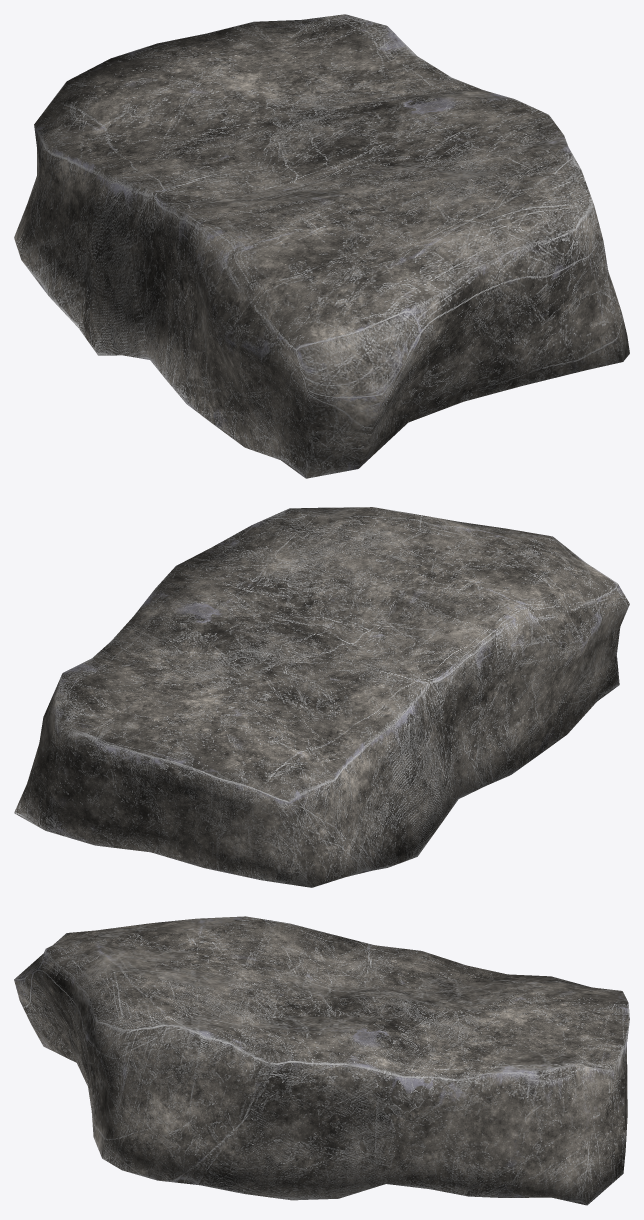
Rendered from SM_Rock01d.fbx.
3 views of the same model, one above another, from view 1: azimuth 30°, elevation 25°; view 2: azimuth 150°, elevation 25°; view 3: azimuth 270°, elevation 25° (orthographic). The views are drawn at different scales.
Parts seen in each view (by area): view 1: SM_Rock01d; view 2: SM_Rock01d; view 3: SM_Rock01d.
Part boxes in pixels (bbox=[...]): SM_Rock01d: bbox=[14, 14, 629, 478]; SM_Rock01d: bbox=[14, 507, 629, 887]; SM_Rock01d: bbox=[14, 916, 629, 1205].
Size of the model in its own units: 86.88 by 136 by 45.3.
Materials: 1 (1 with a texture image).
